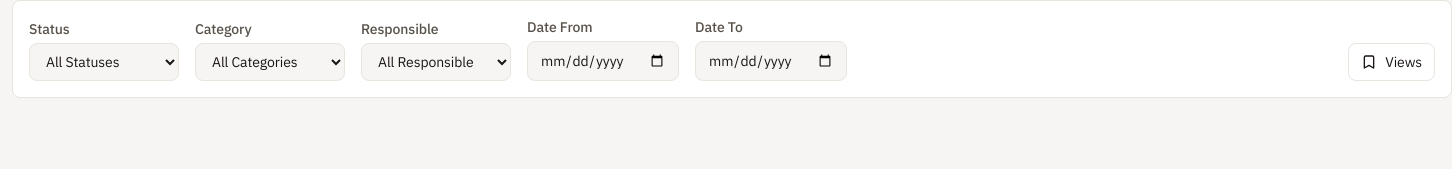
Test: NCRFilters URL persistence › writes filter changes to the URL so navigation keeps them
The width and height of the screenshot is (1452, 169).
Select "materials" in the dropdown labelled "Category" at (270, 62), box [195,43,345,81]
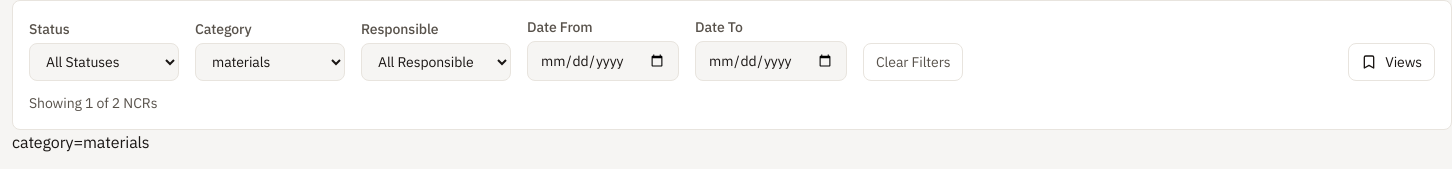
Result: the text with test id "search-params" reads "category=materials" at [12,132,150,152]
